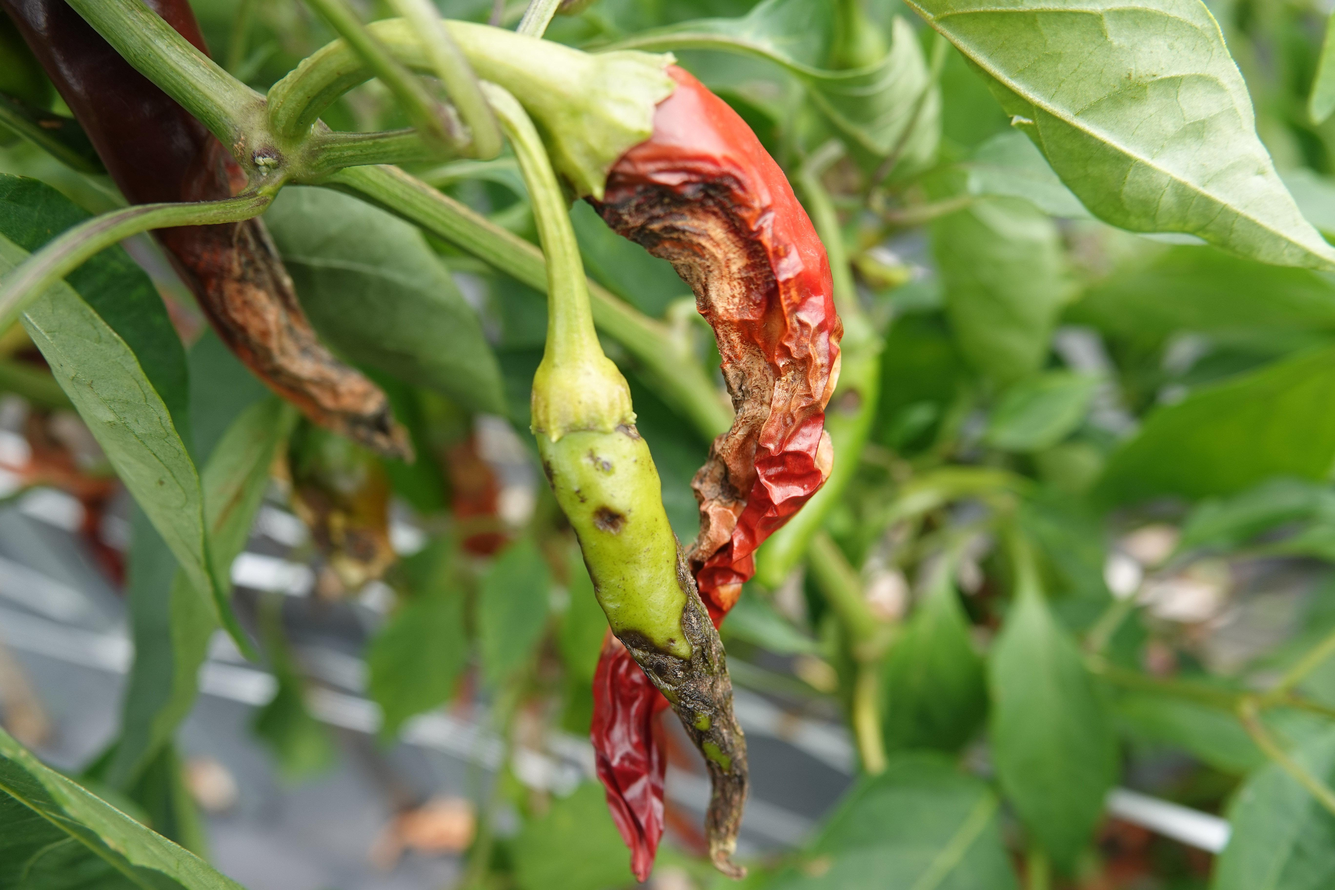Busuk Buah Antraknosa: (554, 45, 873, 890), (2, 0, 394, 441), (532, 345, 766, 880)
